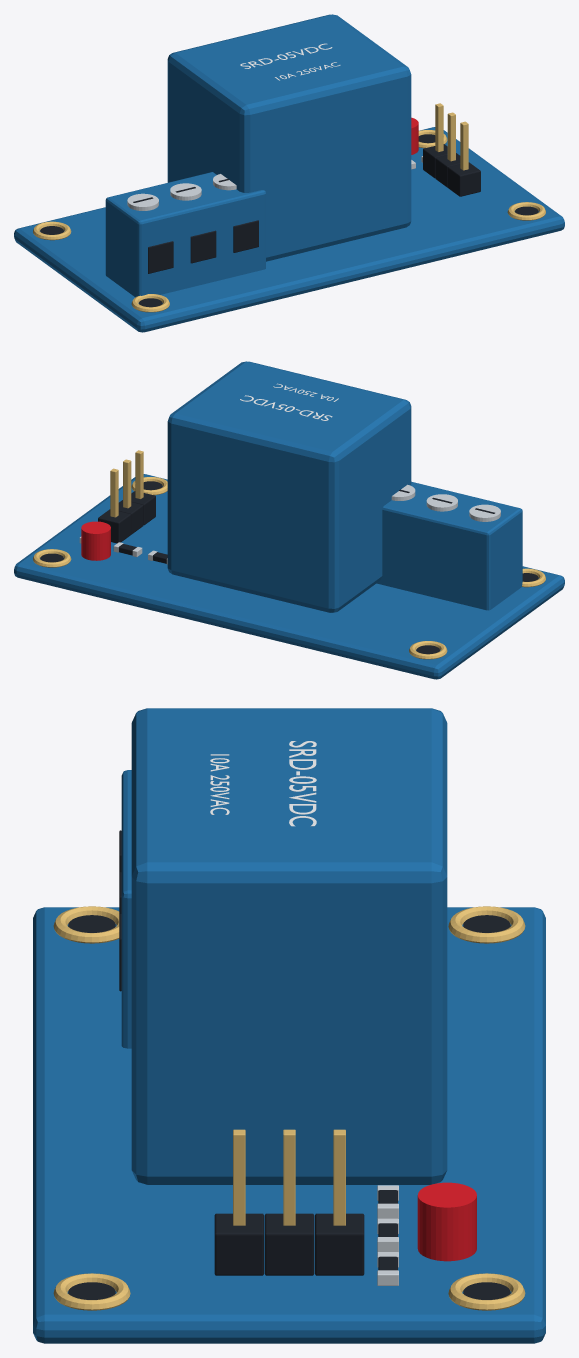
Rendered from relay.glb.
3 views of the same model, one above another, from view 1: azimuth 30°, elevation 25°; view 2: azimuth 150°, elevation 25°; view 3: azimuth 270°, elevation 25° (orthographic). The views are drawn at different scales.
Parts seen in each view (by area): view 1: Static body • blue, Static body • black, Static body • gold, Static body • silver, Static body • white; view 2: Static body • blue, Static body • gold, Static body • black, Static body • silver, Static body • red, Static body • white; view 3: Static body • blue, Static body • black, Static body • gold, Static body • red, Static body • white, Static body • silver.
Boxes of the visible parts, bbox=[...] form: Static body • blue: bbox=[14, 14, 564, 332]; Static body • black: bbox=[40, 134, 538, 307]; Static body • gold: bbox=[33, 103, 545, 312]; Static body • silver: bbox=[127, 156, 422, 210]; Static body • white: bbox=[240, 43, 340, 80]; Static body • blue: bbox=[14, 361, 564, 679]; Static body • gold: bbox=[33, 450, 545, 659]; Static body • black: bbox=[40, 481, 538, 654]; Static body • silver: bbox=[79, 484, 500, 564]; Static body • red: bbox=[81, 521, 110, 560]; Static body • white: bbox=[240, 383, 338, 420]; Static body • blue: bbox=[33, 708, 545, 1343]; Static body • black: bbox=[68, 830, 510, 1299]; Static body • gold: bbox=[53, 906, 525, 1310]; Static body • red: bbox=[417, 1182, 476, 1261]; Static body • white: bbox=[210, 741, 316, 826]; Static body • silver: bbox=[377, 1185, 398, 1285].
Size of the model in its own units: 50 by 19.9 by 26.
